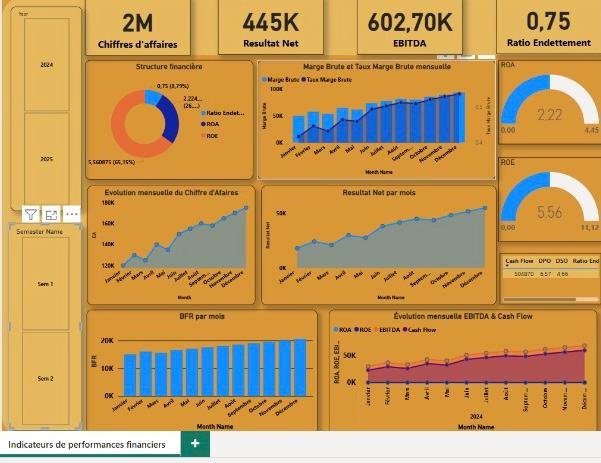

What the dashboard file says about the page in this screenshot:
{"tool":"powerbi","page":{"name":"Indicateurs de performances financiers ","canvas":[1350,1000],"ordinal":0},"visuals":[{"type":"lineChart","title":"Evolution mensuelle du Chiffre d''Afaires","fields":{"Y":["Mesures.CA"],"Category":["Calendrier.Month Name"]},"box":[191.2,426.5,376.5,267.6],"z":0},{"type":"lineStackedColumnComboChart","title":"Marge Brute et Taux Marge Brute mensuelle","fields":{"Category":["Calendrier.Month Name"],"Y":["Mesures.Marge Brute"],"Y2":["Mesures.Taux Marge Brute"]},"box":[573.9,144.9,534.8,268.1],"z":1000},{"type":"lineChart","title":"Resultat Net par mois","fields":{"Category":["Calendrier.Month Name"],"Y":["Mesures.Resultat Net"]},"box":[581.2,426.1,527.5,268.1],"z":3000},{"type":"lineChart","fields":{"Category":["Calendrier.Month Name"],"Y":["Mesures.Cash Flow"]},"box":[1595.3,130.2,369.8,337.2],"z":4000},{"type":"clusteredColumnChart","title":"BFR par mois","fields":{"Category":["Calendrier.Month Name"],"Y":["Mesures.BFR"]},"box":[189.9,705.8,517.4,281.2],"z":8000},{"type":"clusteredColumnChart","fields":{"Category":["Calendrier.Month Name"],"Y":["Mesures.DPO","Mesures.DSO"]},"box":[1630.2,525.6,369.8,334.9],"z":9000},{"type":"shape","box":[0,3.2,190.3,987.1],"z":10000},{"type":"shape","box":[148.5,2.9,1220.6,130.9],"z":11000},{"type":"card","fields":{"Values":["Mesures.CA"]},"box":[186.8,2.9,236.8,130.9],"z":12000},{"type":"card","fields":{"Values":["Mesures.Resultat Net"]},"box":[485.3,1.2,236.8,130.9],"z":13000},{"type":"card","fields":{"Values":["Mesures.EBITDA"]},"box":[797.1,1.2,236.8,130.9],"z":14000},{"type":"card","fields":{"Values":["Mesures.Ratio Endettement"]},"box":[1108.8,0,236.8,130.9],"z":15000},{"type":"lineChart","title":"Évolution mensuelle EBITDA & Cash Flow","fields":{"Y":["Mesures.ROA","Mesures.ROE","Mesures.EBITDA","Mesures.Cash Flow"],"Category":["Calendrier.Year","Calendrier.Month Name"]},"box":[733.3,705.8,601.4,281.2],"z":16000},{"type":"donutChart","title":"Structure financière","fields":{"Y":["Mesures.Ratio Endettement","Mesures.ROA","Mesures.ROE"]},"box":[186.8,145.6,376.5,267.6],"z":17000},{"type":"slicer","fields":{"Values":["Calendrier.Year"]},"box":[19.4,24.2,159.7,458.1],"z":17001},{"type":"slicer","fields":{"Values":["Calendrier.Semester Name"]},"box":[14.5,511.3,164.5,464.5],"z":17002},{"type":"gauge","fields":{"Y":["Mesures.ROA"]},"box":[1113,144.9,231.9,188.4],"z":17004},{"type":"gauge","fields":{"Y":["Mesures.ROE"]},"box":[1113,363.8,231.9,188.4],"z":17005},{"type":"tableEx","fields":{"Values":["Mesures.Cash Flow","Mesures.DPO","Mesures.DSO","Mesures.Ratio Endettement"]},"box":[1117.4,578.3,227.5,114.5],"z":17006}]}

Visuals, with their boxes in screenshot pixels (x1, y1, x2, y2):
"Evolution mensuelle du Chiffre d''Afaires" lineChart: [x1=84, y1=183, x2=249, y2=300]
"Marge Brute et Taux Marge Brute mensuelle" lineStackedColumnComboChart: [x1=252, y1=59, x2=487, y2=177]
"Resultat Net par mois" lineChart: [x1=255, y1=182, x2=487, y2=300]
"BFR par mois" clusteredColumnChart: [x1=83, y1=305, x2=311, y2=429]
shape: [x1=0, y1=0, x2=84, y2=430]
shape: [x1=65, y1=0, x2=600, y2=54]
card - Mesures.CA: [x1=82, y1=0, x2=186, y2=54]
card - Mesures.Resultat Net: [x1=213, y1=0, x2=317, y2=53]
card - Mesures.EBITDA: [x1=350, y1=0, x2=454, y2=53]
card - Mesures.Ratio Endettement: [x1=487, y1=0, x2=591, y2=53]
"Évolution mensuelle EBITDA & Cash Flow" lineChart: [x1=322, y1=305, x2=586, y2=429]
"Structure financière" donutChart: [x1=82, y1=59, x2=247, y2=177]
slicer - Calendrier.Year: [x1=9, y1=6, x2=79, y2=207]
slicer - Calendrier.Semester Name: [x1=6, y1=220, x2=79, y2=424]
gauge - Mesures.ROA: [x1=489, y1=59, x2=590, y2=142]
gauge - Mesures.ROE: [x1=489, y1=155, x2=590, y2=238]
tableEx - Mesures.Cash Flow x Mesures.DPO: [x1=491, y1=249, x2=590, y2=299]
